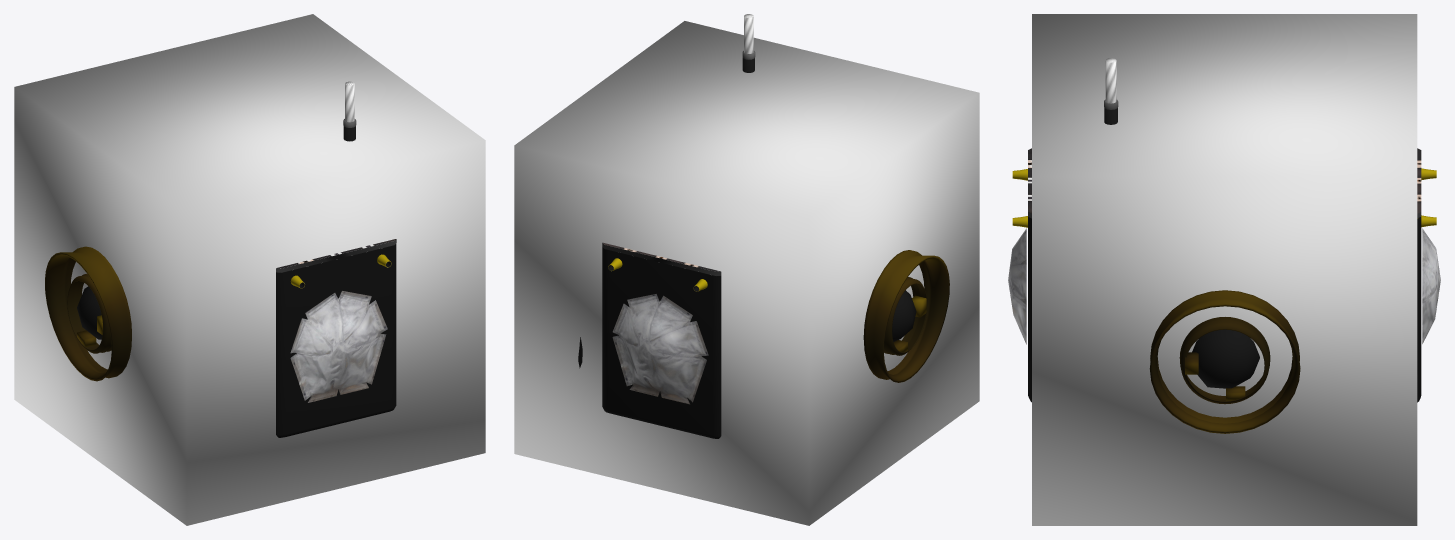
Rendered from IBEX.glb.
3 views of the same model, side by side, from view 1: azimuth 30°, elevation 25°; view 2: azimuth 150°, elevation 25°; view 3: azimuth 270°, elevation 25° (orthographic). The views are drawn at different scales.
Parts seen in each view (by area): view 1: _root, black_krinkle, tex_01, foil_gold, foil_silver; view 2: _root, black_krinkle, tex_01, foil_gold, foil_silver; view 3: _root, foil_gold, black_krinkle, tex_01, shiny_panel.
Boxes of the visible parts, box(x1,y1,x2,y2) form: _root: box(14, 14, 485, 525); black_krinkle: box(77, 126, 396, 437); tex_01: box(290, 81, 387, 402); foil_gold: box(45, 246, 391, 381); foil_silver: box(276, 119, 396, 272); _root: box(514, 21, 979, 525); black_krinkle: box(578, 58, 916, 438); tex_01: box(612, 14, 753, 404); foil_gold: box(608, 250, 949, 382); foil_silver: box(602, 51, 755, 275); _root: box(1032, 14, 1417, 525); foil_gold: box(1012, 168, 1436, 433); black_krinkle: box(1028, 108, 1421, 402); tex_01: box(1008, 58, 1440, 344); shiny_panel: box(1028, 148, 1421, 213).
Bounding box in the file's own units: 1.18 × 1.18 × 1.12.
Materials: 5 (4 with a texture image).
